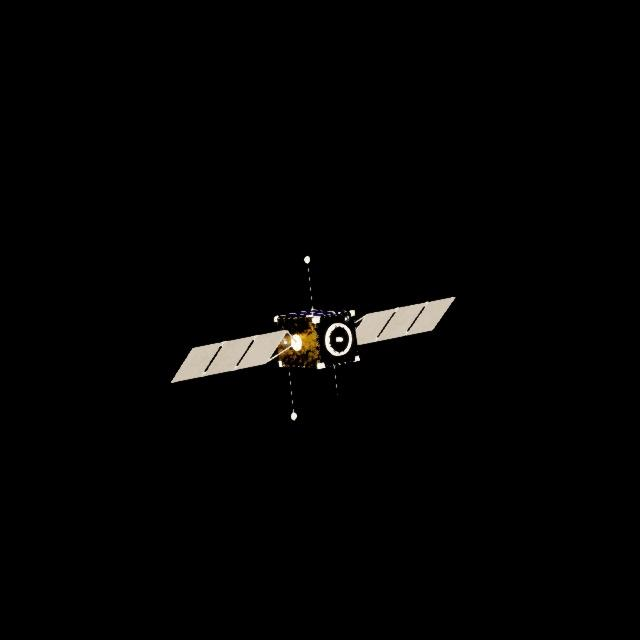satellite: (173, 255, 455, 402)
